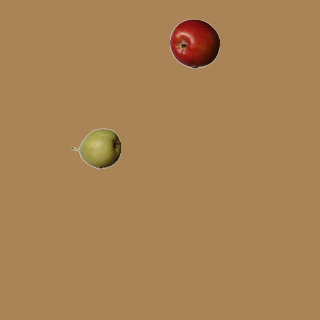Apple Braeburn: (169, 18, 219, 68)
Pear: (70, 123, 120, 173)
